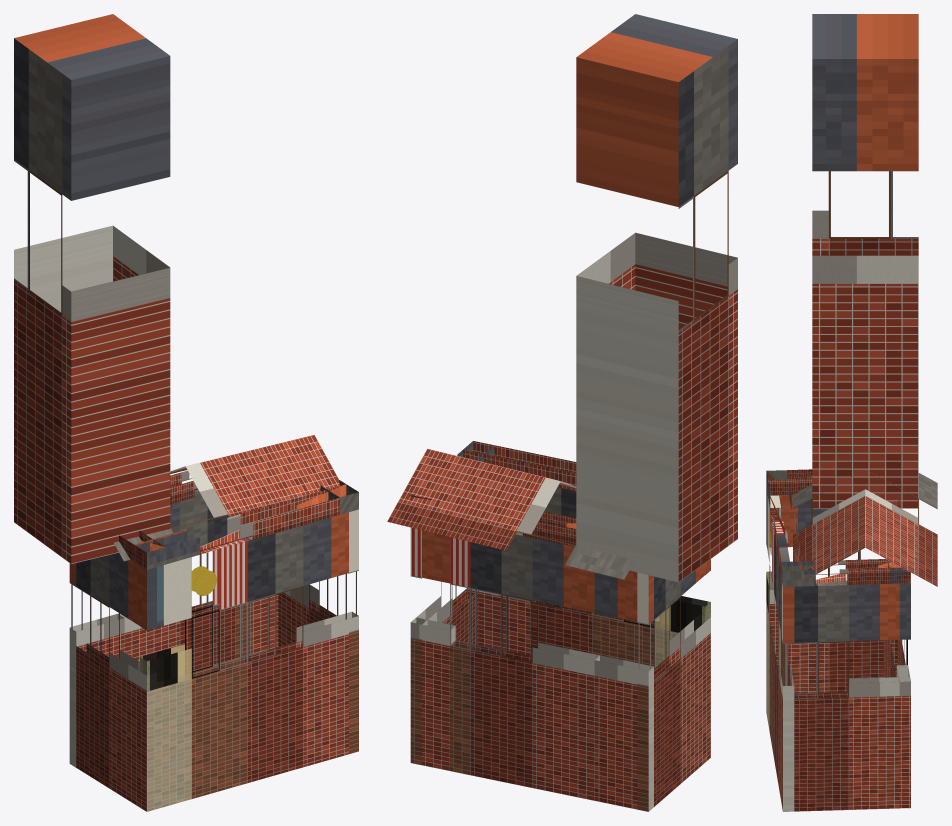
3 views of the same model, side by side, from view 1: azimuth 30°, elevation 25°; view 2: azimuth 150°, elevation 25°; view 3: azimuth 270°, elevation 25° (orthographic). The views are drawn at different scales.
Visible parts, largest first — view 1: 586474399__chimney_0_xb, 586474399__wall_2_xb, 586474399__wall_1_xb, 586474399_roof_-1_xb, 586474399__wall_5_xb, 586474399__cornice_2, 586474399__wall_3_xb, 586474399__wall_0_xb, 586474399__wall_2_xf, 586474399__wall_4_xb, 586474399__cornice_5, 586474399__cornice_1; view 2: 586474399__chimney_0_xb, 586474399__wall_5_xb, 586474399_roof_1_xb, 586474399__wall_1_xb, 586474399__wall_2_xb, 586474399__wall_0_xb, 586474399__wall_4_xb, 586474399__wall_3_xb, 586474399__cornice_2, 586474399__wall_2_xf, 586474399__cornice_5; view 3: 586474399__chimney_0_xb, 586474399__wall_3_xb, 586474399__wall_2_xb, 586474399__wall_1_xb, 586474399_roof_1_xb, 586474399_roof_-1_xb, 586474399__wall_4_xb, 586474399__cornice_3, 586474399__cornice_2, 586474399__cornice_1, 586474399__wall_5_xb.
Part boxes in pixels (bbox=[...]): 586474399__chimney_0_xb: bbox=[14, 14, 170, 563]; 586474399__wall_2_xb: bbox=[140, 512, 358, 811]; 586474399__wall_1_xb: bbox=[69, 552, 156, 811]; 586474399_roof_-1_xb: bbox=[114, 434, 346, 561]; 586474399__wall_5_xb: bbox=[117, 490, 253, 672]; 586474399__cornice_2: bbox=[134, 484, 346, 569]; 586474399__wall_3_xb: bbox=[278, 509, 358, 754]; 586474399__wall_0_xb: bbox=[69, 563, 124, 767]; 586474399__wall_2_xf: bbox=[140, 565, 191, 690]; 586474399__wall_4_xb: bbox=[253, 594, 278, 653]; 586474399__cornice_5: bbox=[170, 470, 197, 504]; 586474399__cornice_1: bbox=[119, 530, 165, 569]; 586474399__chimney_0_xb: bbox=[576, 14, 737, 582]; 586474399__wall_5_xb: bbox=[450, 532, 599, 800]; 586474399_roof_1_xb: bbox=[387, 448, 634, 579]; 586474399__wall_1_xb: bbox=[637, 559, 710, 811]; 586474399__wall_2_xb: bbox=[468, 487, 710, 667]; 586474399__wall_0_xb: bbox=[594, 570, 653, 811]; 586474399__wall_4_xb: bbox=[410, 530, 455, 770]; 586474399__wall_3_xb: bbox=[410, 527, 478, 765]; 586474399__cornice_2: bbox=[463, 441, 576, 490]; 586474399__wall_2_xf: bbox=[655, 596, 710, 631]; 586474399__cornice_5: bbox=[522, 511, 576, 546]; 586474399__chimney_0_xb: bbox=[812, 14, 918, 508]; 586474399__wall_3_xb: bbox=[782, 580, 909, 811]; 586474399__wall_2_xb: bbox=[766, 489, 794, 811]; 586474399__wall_1_xb: bbox=[766, 491, 883, 693]; 586474399_roof_1_xb: bbox=[865, 469, 937, 586]; 586474399_roof_-1_xb: bbox=[793, 470, 865, 586]; 586474399__wall_4_xb: bbox=[896, 583, 910, 808]; 586474399__cornice_3: bbox=[781, 558, 910, 586]; 586474399__cornice_2: bbox=[766, 470, 803, 586]; 586474399__cornice_1: bbox=[766, 469, 812, 495]; 586474399__wall_5_xb: bbox=[886, 639, 907, 677].
Size of the model in its own units: 0.4115 by 1.05 by 0.2419.
Materials: 1 (1 with a texture image).
